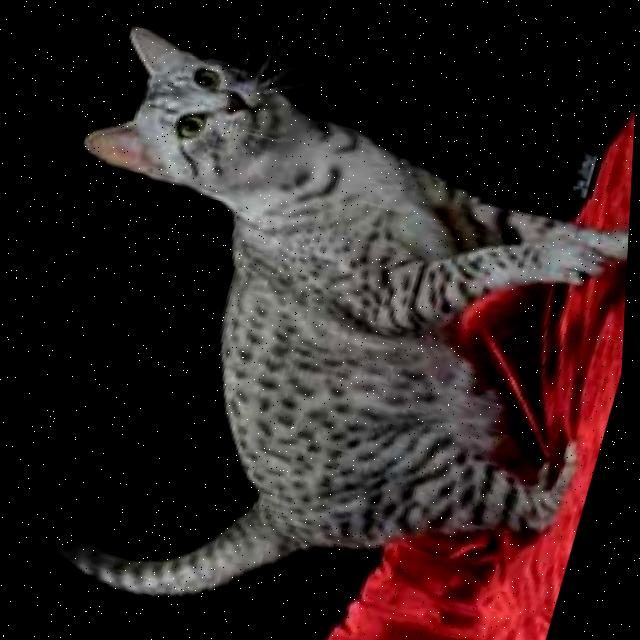Egyptian Mau: (0, 11, 640, 640)
